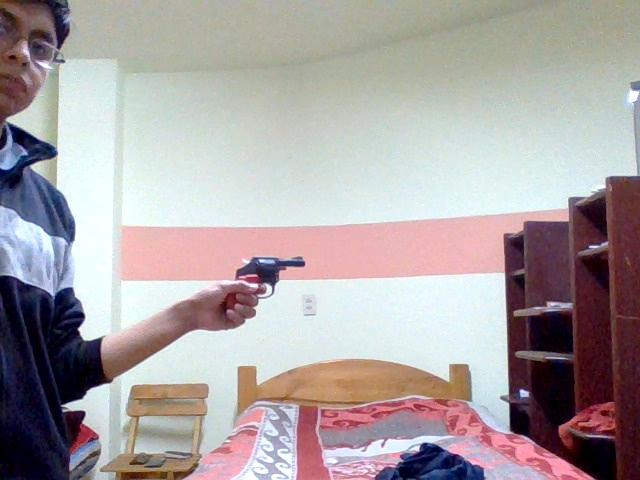pistol: (190, 244, 326, 336)
